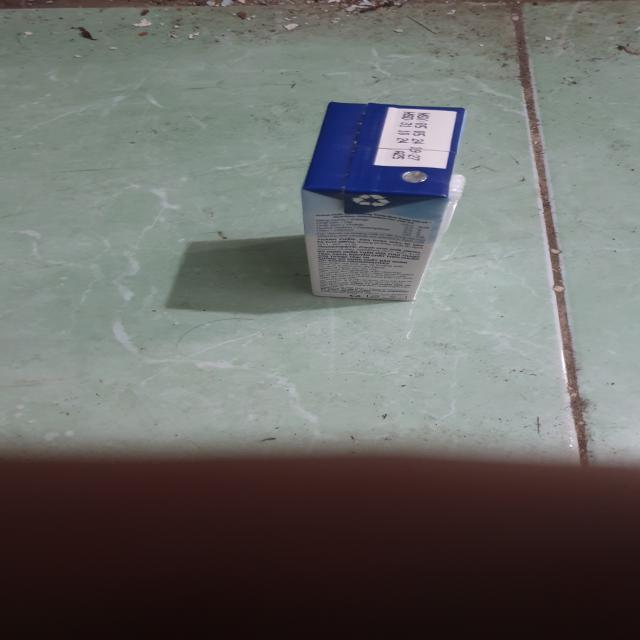TH: (302, 103, 469, 302)
